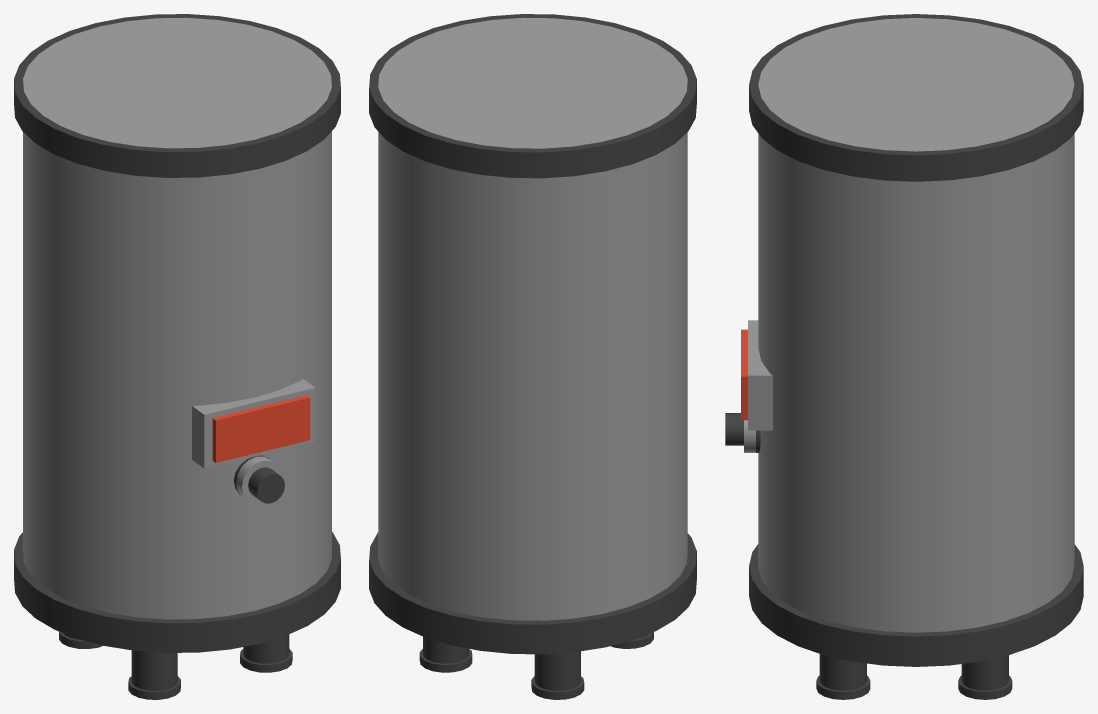
File: maquina1.fbx
3 views of the same model, side by side, from view 1: azimuth 30°, elevation 25°; view 2: azimuth 150°, elevation 25°; view 3: azimuth 270°, elevation 25° (orthographic). The views are drawn at different scales.
Parts seen in each view (by area): view 1: Maquina1; view 2: Maquina1; view 3: Maquina1.
Part boxes in pixels (box(x1,y1,x2,y2)): Maquina1: box(14, 14, 340, 699); Maquina1: box(369, 14, 696, 699); Maquina1: box(725, 14, 1083, 699).
Bounding box in the file's own units: 212 × 403 × 227.
